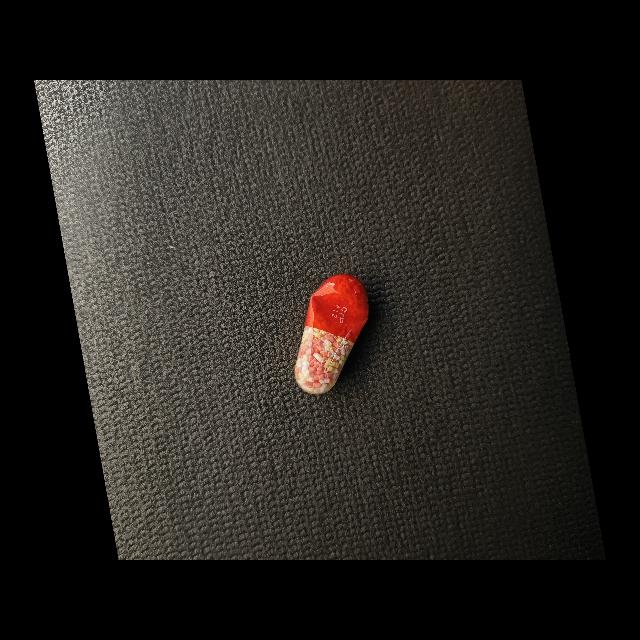Defective Capsule: (294, 274, 369, 394)
